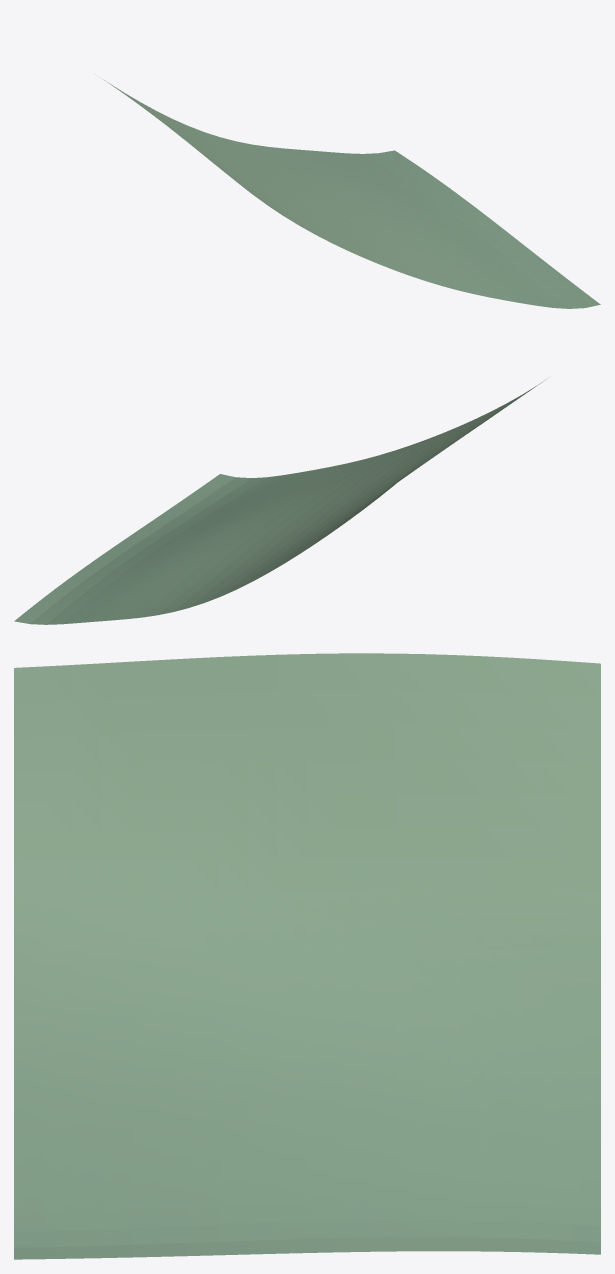
The model's file is terreno_0_1.glb.
3 renders of one model, top to bottom at view 1: azimuth 30°, elevation 25°; view 2: azimuth 150°, elevation 25°; view 3: azimuth 270°, elevation 25°, orthographic. The views are drawn at different scales.
Visible parts, largest first — view 1: terreno_0_1; view 2: terreno_0_1; view 3: terreno_0_1.
Part boxes in pixels (bbox=[...]): terreno_0_1: bbox=[103, 79, 600, 308]; terreno_0_1: bbox=[14, 379, 546, 624]; terreno_0_1: bbox=[14, 653, 600, 1259].
Bounding box in the file's own units: 112 × 67.43 × 105.
